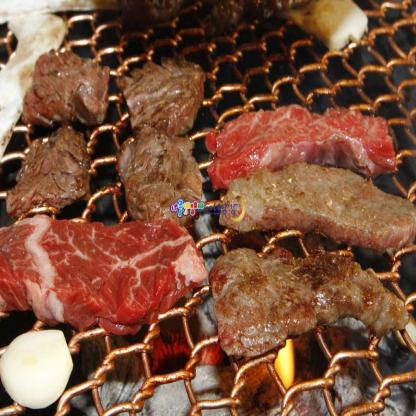Carne: (216, 249, 404, 344), (235, 168, 416, 243), (10, 133, 93, 213), (24, 51, 110, 123), (123, 138, 200, 217), (123, 64, 210, 131)
